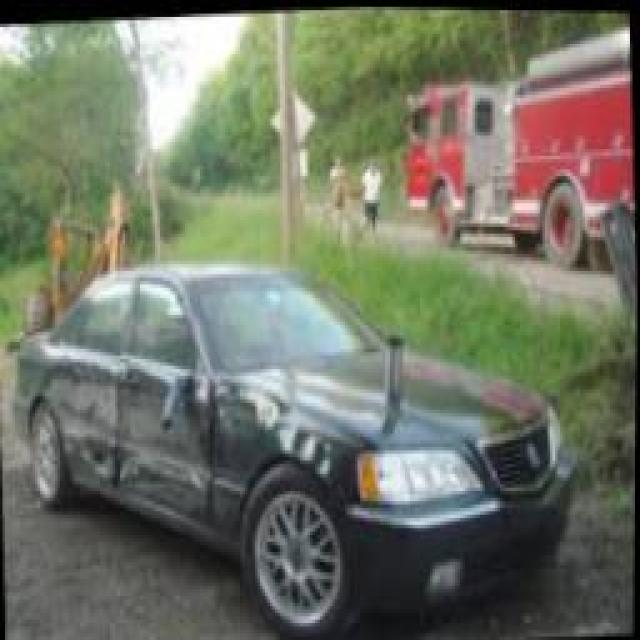Door: (59, 266, 131, 492)
